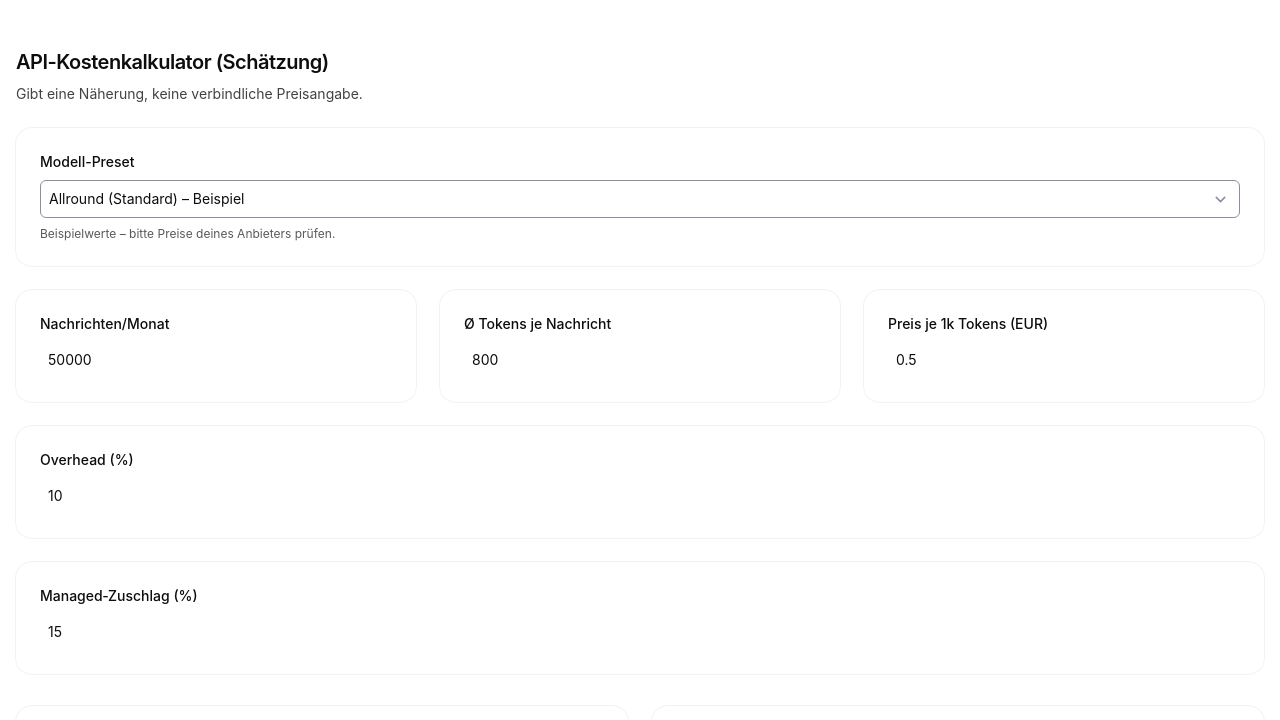
Test: PricingDetails – Kalkulator › zeigt zod-Fehler an bei ungültigen Eingaben
(page scrolled)
Replace the text in the number field labelled "Nachrichten/Monat" with "-1" at (216, 360), box [40,342,392,378]
Wait 350 ms
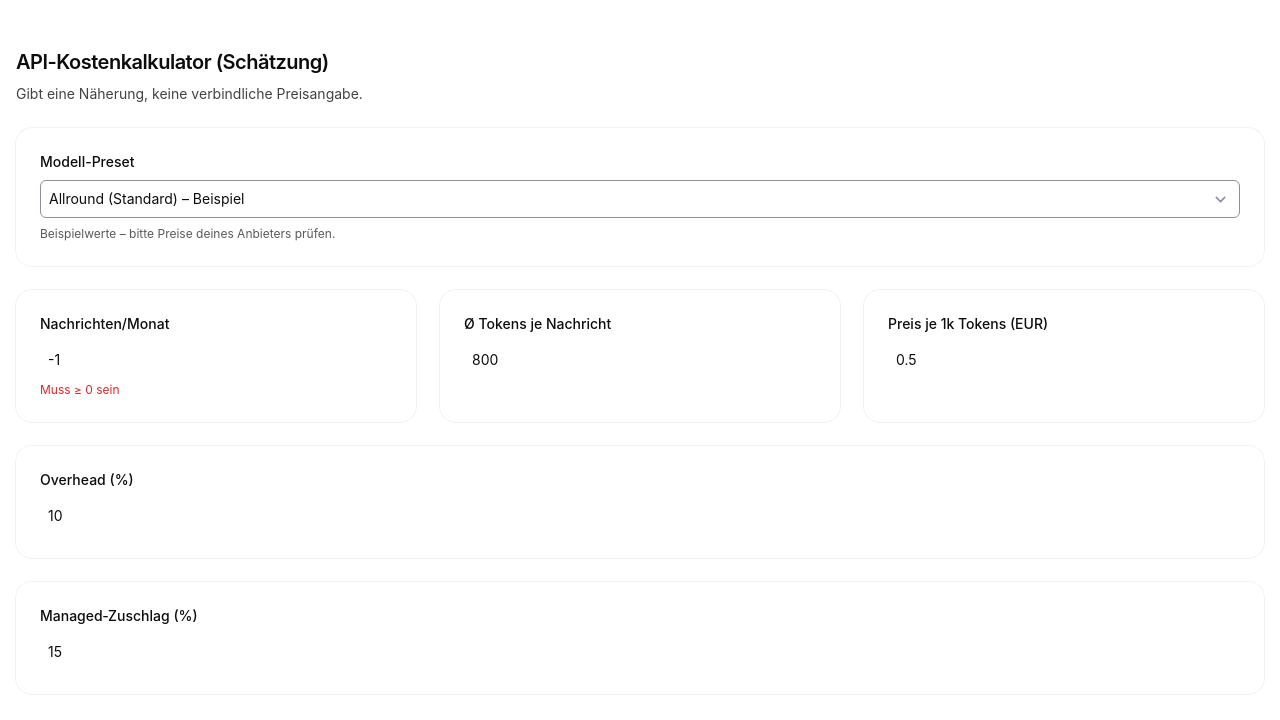
Expected: the message reads "Muss ≥ 0 sein", [40,382,120,397]
